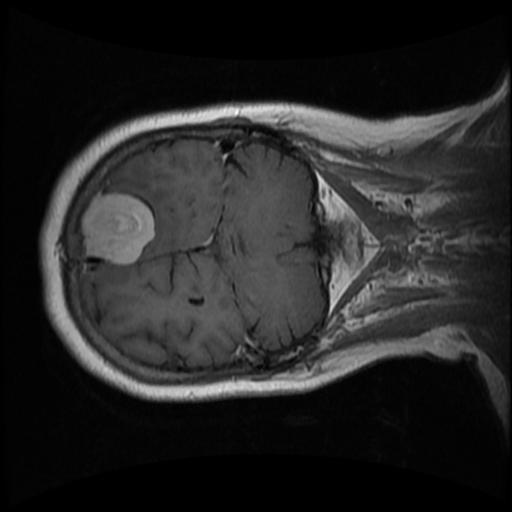meningioma: (80, 193, 156, 266)
